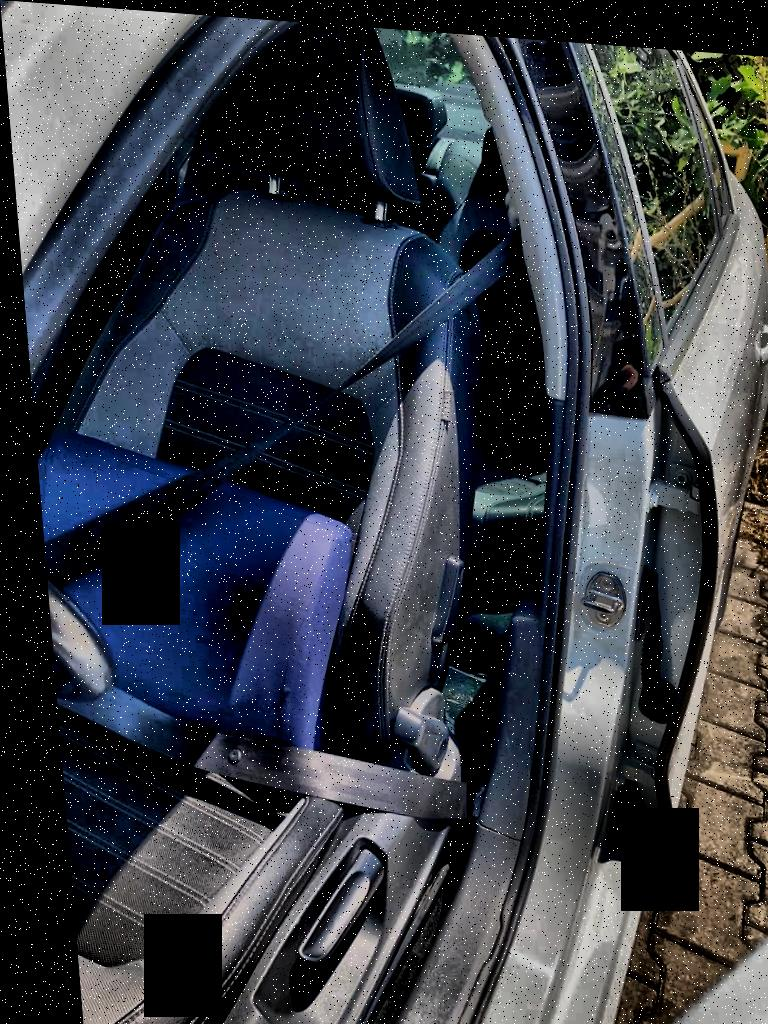seatbelt: (20, 192, 568, 822)
